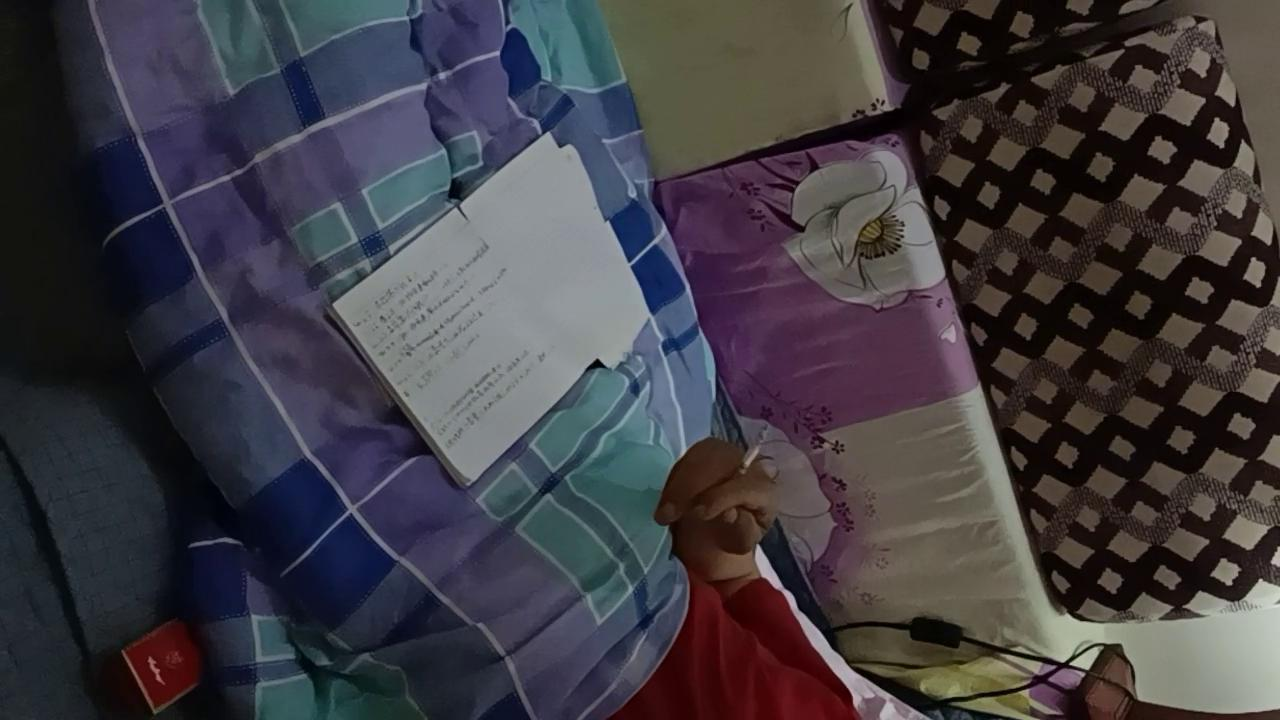smoke: (725, 424, 770, 486)
